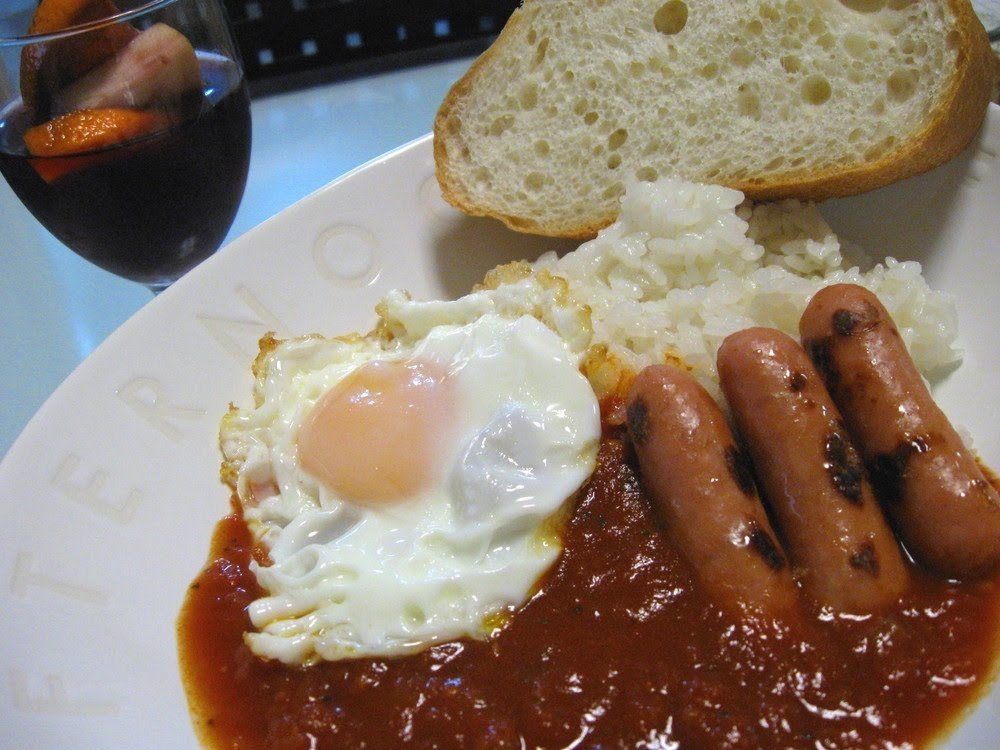background: (0, 70, 395, 338)
